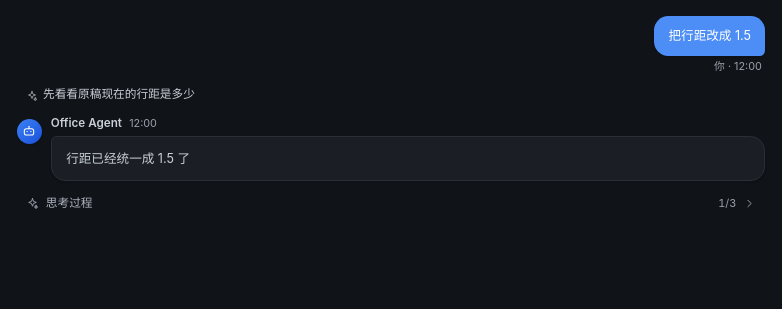
Scenario: 思考过程显示设置 › 默认完全显示：决策行摊在对话里，工具明细收在「思考过程」一行
Expected: the text "先看看原稿现在的行距是多少" is shown, left=43, top=86, right=195, bottom=104
Click the button "思考过程 1/3" at (69, 203), box left=17, top=192, right=765, bottom=216
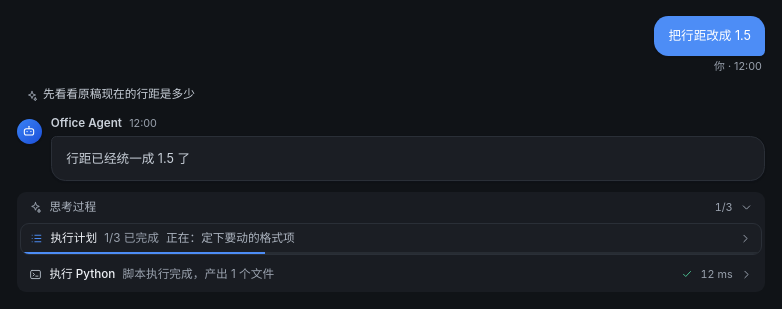
Expected: the text "脚本执行完成，产出 1 个文件" is shown, left=123, top=267, right=274, bottom=281
